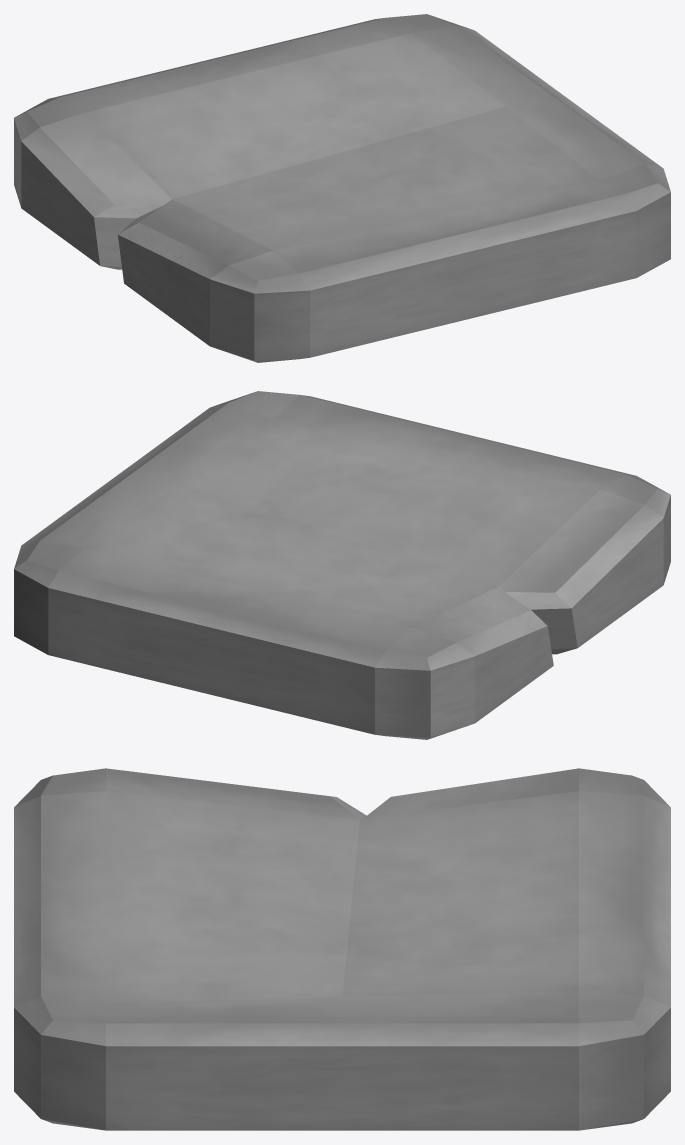
File: SteppingStone-2.glb
3 views of the same model, one above another, from view 1: azimuth 30°, elevation 25°; view 2: azimuth 150°, elevation 25°; view 3: azimuth 270°, elevation 25° (orthographic). The views are drawn at different scales.
Visible parts, largest first — view 1: SteppingStone-2-col; view 2: SteppingStone-2-col; view 3: SteppingStone-2-col.
Boxes of the visible parts, x1,y1,x2,y2 form: SteppingStone-2-col: (14,14,670,362); SteppingStone-2-col: (14,391,670,739); SteppingStone-2-col: (14,768,670,1130).
Bounding box in the file's own units: 0.3357 × 0.066 × 0.3357.
Materials: 1 (1 with a texture image).
